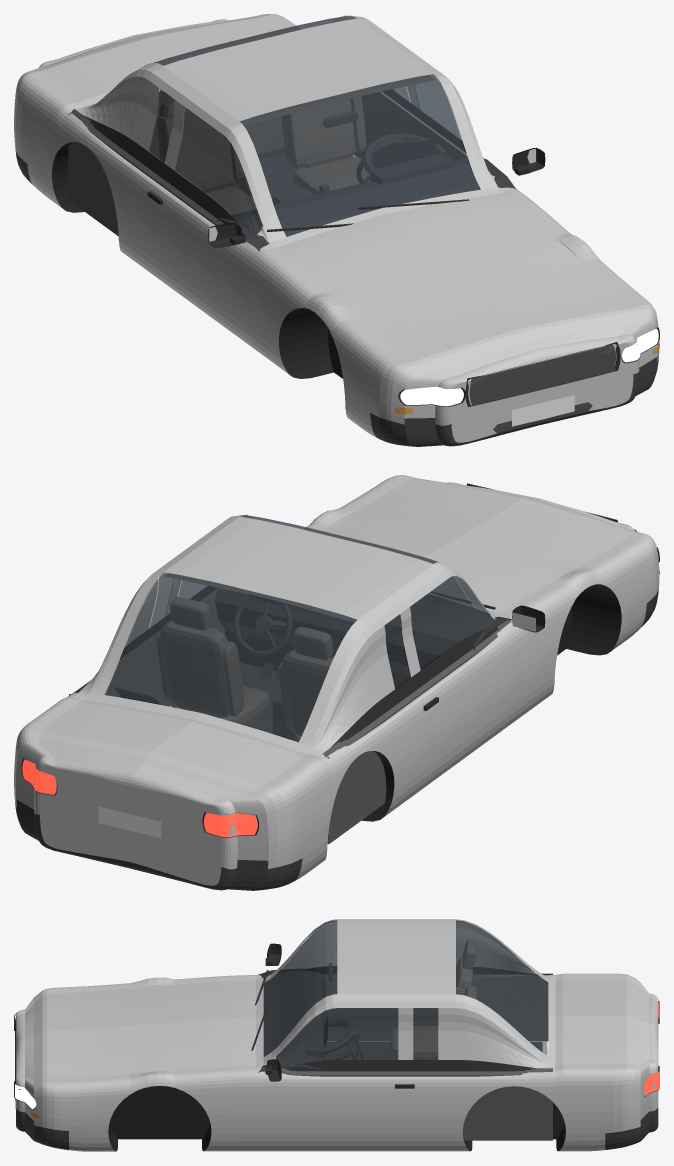
The model's file is car_stallion.fbx.
3 renders of one model, top to bottom at view 1: azimuth 30°, elevation 25°; view 2: azimuth 150°, elevation 25°; view 3: azimuth 270°, elevation 25°, orthographic. The views are drawn at different scales.
Visible parts, largest first — view 1: stallion__hood, stallion__glass, stallion__roof, stallion__seats, stallion__fenderFR, stallion__interior, stallion__trunk, stallion__doorR, stallion__cabin, stallion__pillars, stallion__quarterR, stallion__fascia (+10 smaller); view 2: stallion__glass, stallion__hood, stallion__trunk, stallion__roof, stallion__rearPanel, stallion__seats, stallion__interior, stallion__pillars, stallion__doorR, stallion__quarterR, stallion__fenderFR, stallion__cabin (+7 smaller); view 3: stallion__hood, stallion__glass, stallion__doorL, stallion__cabin, stallion__fenderFL, stallion__trunk, stallion__pillars, stallion__roof, stallion__quarterL, stallion__interior, stallion__wells, stallion__seals (+5 smaller).
Part boxes in pixels (x1,y1,x2,y2): stallion__hood: [262, 189, 647, 386]; stallion__glass: [149, 16, 493, 235]; stallion__roof: [152, 18, 444, 128]; stallion__seats: [157, 96, 369, 214]; stallion__fenderFR: [240, 245, 443, 438]; stallion__interior: [217, 111, 515, 251]; stallion__trunk: [25, 14, 515, 251]; stallion__doorR: [130, 169, 250, 343]; stallion__cabin: [68, 75, 467, 247]; stallion__pillars: [79, 15, 497, 242]; stallion__quarterR: [14, 73, 138, 262]; stallion__fascia: [435, 335, 639, 442]; stallion__glass: [105, 515, 493, 741]; stallion__hood: [304, 475, 647, 616]; stallion__trunk: [25, 593, 512, 809]; stallion__roof: [153, 516, 444, 626]; stallion__rearPanel: [34, 758, 237, 885]; stallion__seats: [157, 597, 333, 742]; stallion__interior: [215, 588, 512, 740]; stallion__pillars: [79, 514, 497, 752]; stallion__doorR: [398, 626, 517, 806]; stallion__quarterR: [229, 711, 407, 880]; stallion__fenderFR: [506, 535, 659, 725]; stallion__cabin: [69, 573, 511, 844]; stallion__hood: [16, 975, 255, 1085]; stallion__glass: [264, 920, 547, 1064]; stallion__doorL: [271, 1073, 443, 1151]; stallion__cabin: [262, 973, 552, 1140]; stallion__fenderFL: [25, 1071, 271, 1151]; stallion__trunk: [256, 973, 658, 1071]; stallion__pillars: [263, 919, 548, 1068]; stallion__roof: [337, 919, 455, 1001]; stallion__quarterL: [443, 1064, 649, 1151]; stallion__interior: [258, 963, 542, 1072]; stallion__wells: [108, 1086, 565, 1151]; stallion__seals: [281, 966, 548, 1071].
Size of the model in its own units: 2.3 by 1.27 by 4.96.
